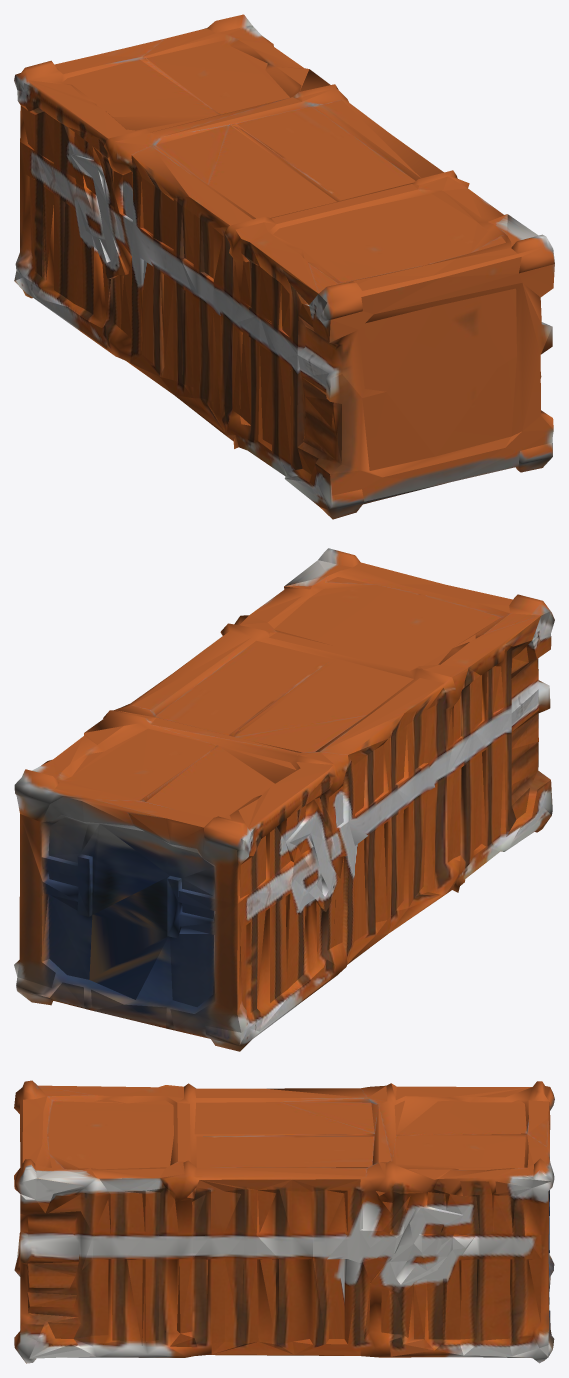
3 views of the same model, one above another, from view 1: azimuth 30°, elevation 25°; view 2: azimuth 150°, elevation 25°; view 3: azimuth 270°, elevation 25° (orthographic). The views are drawn at different scales.
Parts seen in each view (by area): view 1: tripo_node_ae94fd78.003; view 2: tripo_node_ae94fd78.003; view 3: tripo_node_ae94fd78.003.
Part boxes in pixels (left/top/right/bottom): tripo_node_ae94fd78.003: left=14, top=14, right=554, bottom=519; tripo_node_ae94fd78.003: left=14, top=548, right=554, bottom=1051; tripo_node_ae94fd78.003: left=14, top=1080, right=554, bottom=1363.
Size of the model in its own units: 10.5 by 9.9 by 24.8.
